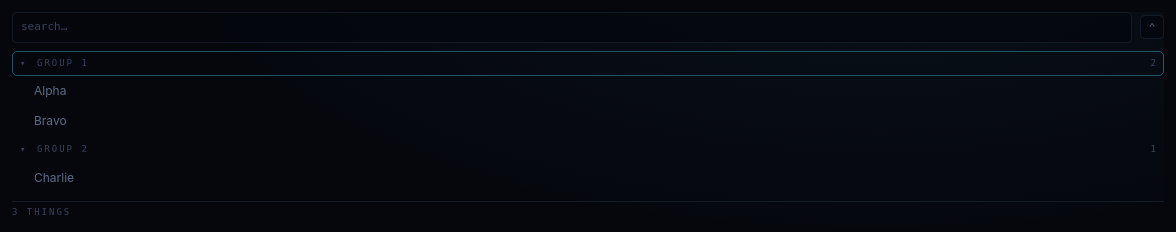
BrowserShell collapse-all (design §8.1) › flips to expand-all once anything is folded, and unfolds everything
Click the button "⌃": (1152, 27) [1140,15,1164,39]
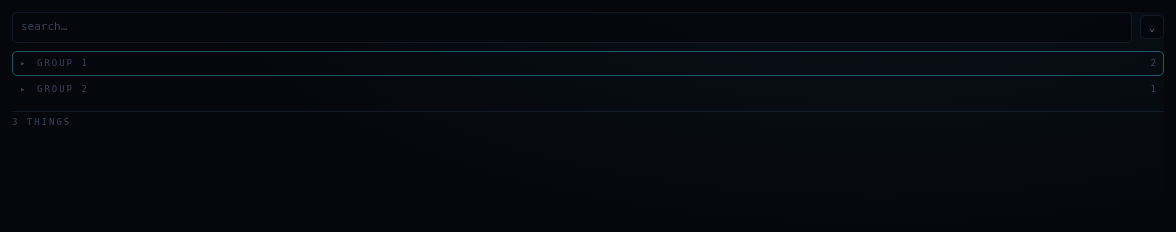
Click the button "⌄": (1152, 27) [1140,15,1164,39]
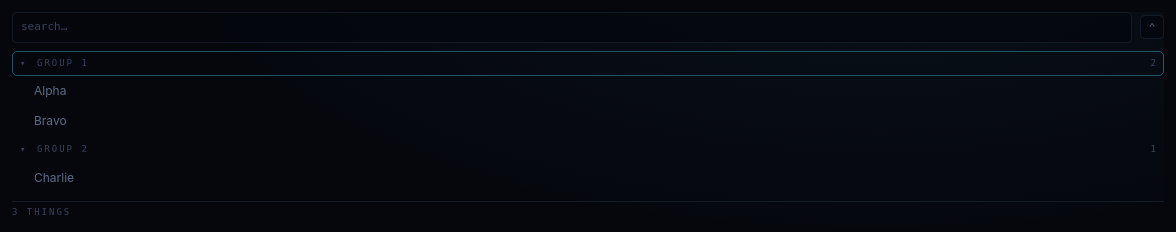
Result: the text "Alpha" is shown at [34,83,66,98]
